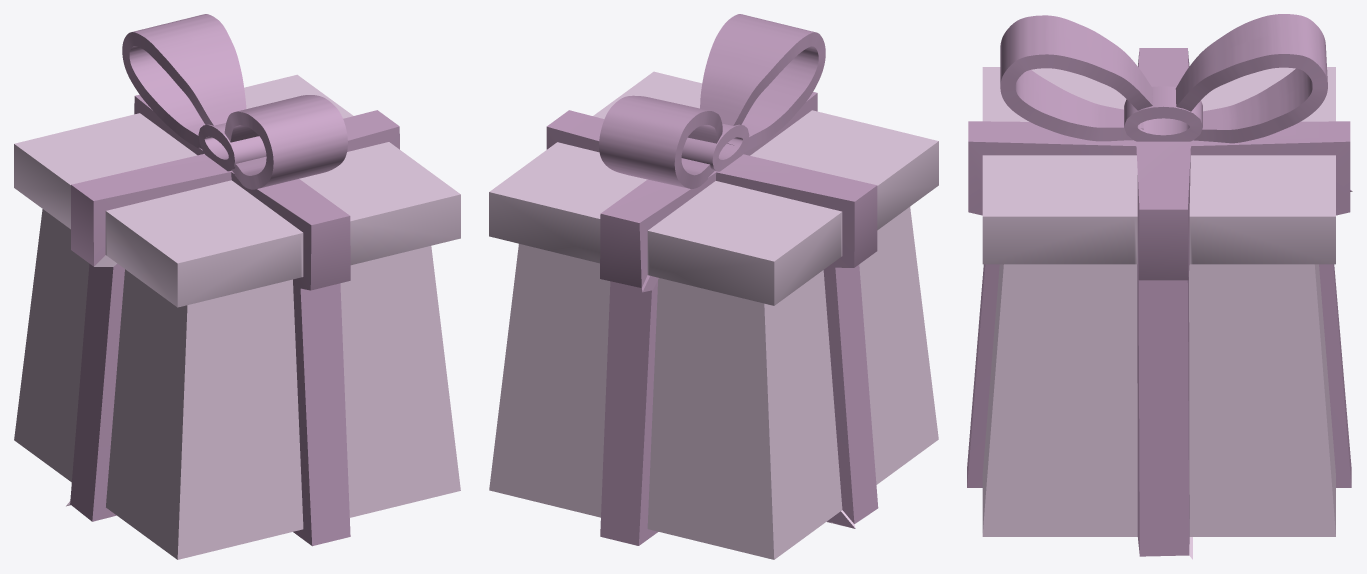
File: present 2.fbx
3 renders of one model, left to right at view 1: azimuth 30°, elevation 25°; view 2: azimuth 150°, elevation 25°; view 3: azimuth 270°, elevation 25°, orthographic. The views are drawn at different scales.
Parts seen in each view (by area): view 1: pCube6, pCube7, pCube5, pCylinder2; view 2: pCube6, pCube5, pCube7, pCylinder2; view 3: pCube6, pCube7, pCube5, pCylinder2.
Part boxes in pixels (x1,y1,x2,y2): pCube6: [14, 74, 460, 559]; pCube7: [122, 14, 246, 148]; pCube5: [224, 95, 347, 189]; pCylinder2: [198, 123, 266, 171]; pCube6: [489, 71, 938, 559]; pCube5: [700, 14, 825, 151]; pCube7: [599, 95, 722, 188]; pCylinder2: [681, 123, 749, 171]; pCube6: [967, 48, 1352, 559]; pCube7: [1175, 14, 1327, 143]; pCube5: [1000, 15, 1152, 141]; pCylinder2: [1124, 86, 1202, 141].
Size of the model in its own units: 1156 by 1451 by 1143.
